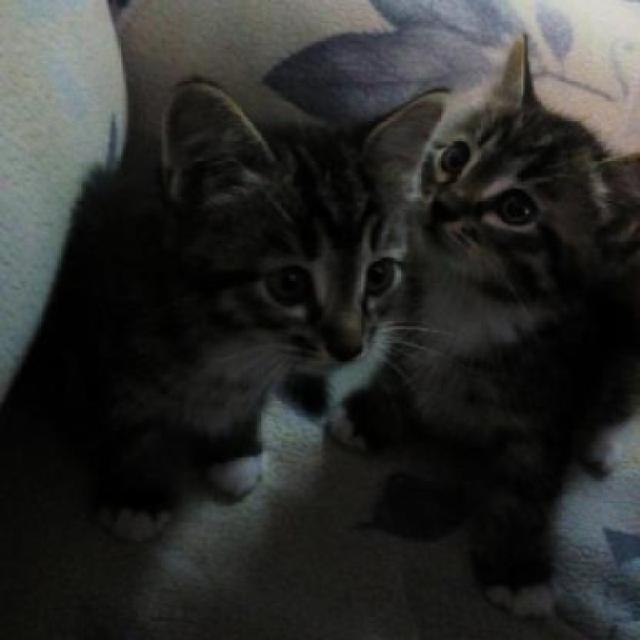cat: (0, 71, 449, 555), (412, 46, 636, 543)
